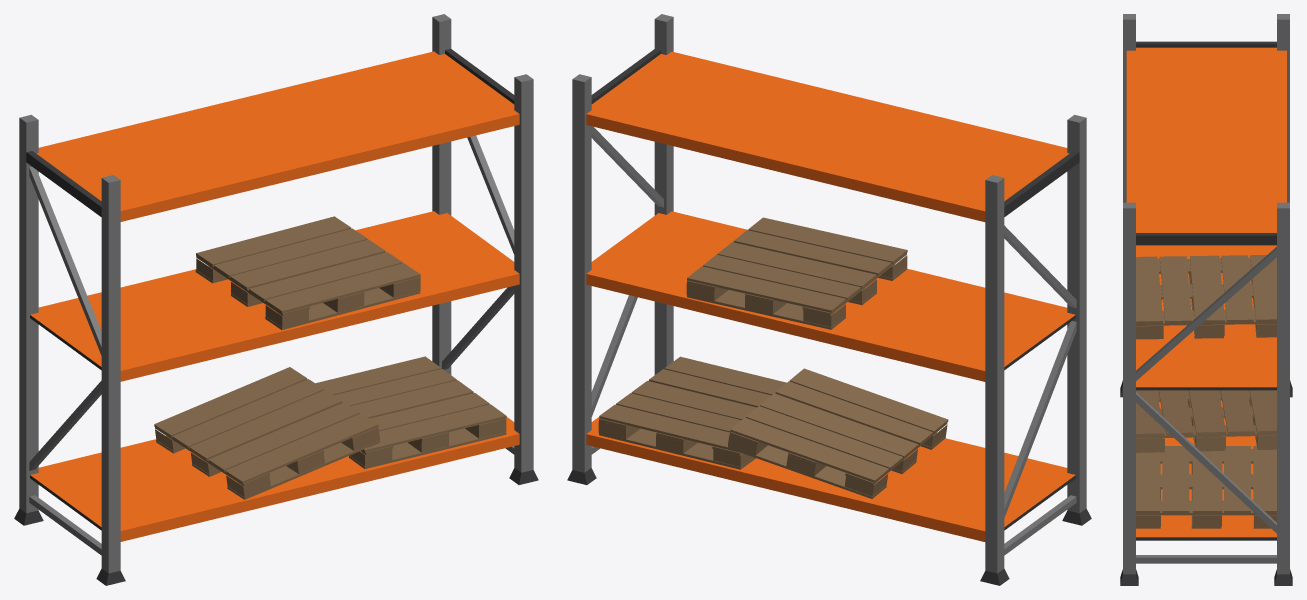
Rendered from PalletShelves.glb.
The picture shows the model from 3 angles, left to right: view 1: azimuth 30°, elevation 25°; view 2: azimuth 150°, elevation 25°; view 3: azimuth 270°, elevation 25°; orthographic projection. The views are drawn at different scales.
Visible parts, largest first — view 1: palletShelves; view 2: palletShelves; view 3: palletShelves.
Boxes of the visible parts, bbox=[...] form: palletShelves: bbox=[14, 14, 538, 585]; palletShelves: bbox=[567, 14, 1091, 585]; palletShelves: bbox=[1120, 14, 1292, 585].
Size of the model in its own units: 2.55 by 2.25 by 0.936.
Materials: 1 (1 with a texture image).
